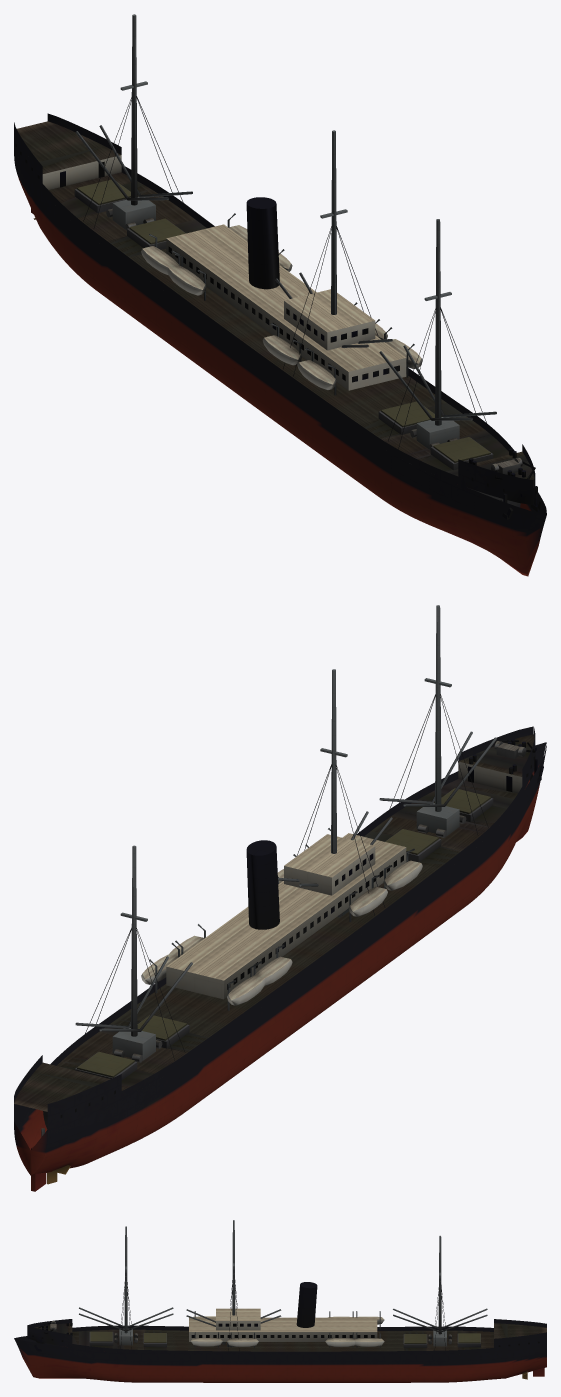
The model's file is model_built.glb.
3 renders of one model, top to bottom at view 1: azimuth 30°, elevation 25°; view 2: azimuth 150°, elevation 25°; view 3: azimuth 270°, elevation 25°, orthographic. The views are drawn at different scales.
Parts seen in each view (by area): view 1: main; view 2: main; view 3: main.
Part boxes in pixels (x1=…): main: x1=14, y1=14, x2=546, y2=576; main: x1=14, y1=605, x2=546, y2=1191; main: x1=14, y1=1220, x2=546, y2=1382.
Size of the model in its own units: 13.92 by 38.95 by 119.
Materials: 2 (2 with a texture image).
